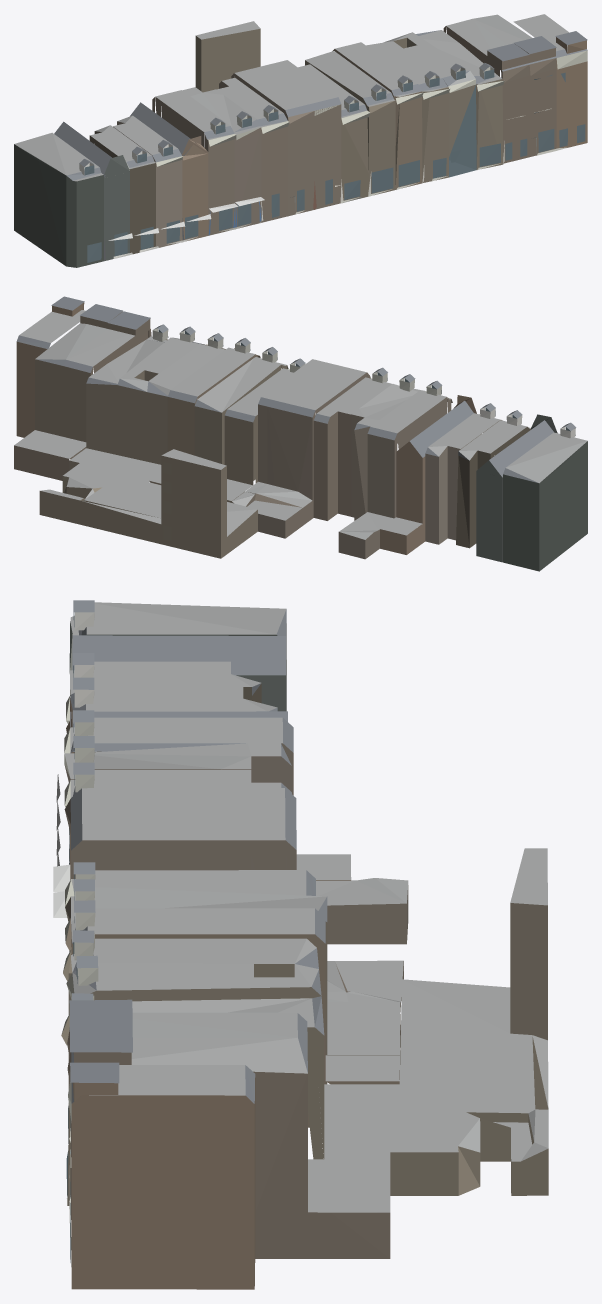
The model's file is chunk-face-kinker-206-242.lod2.glb.
3 renders of one model, top to bottom at view 1: azimuth 30°, elevation 25°; view 2: azimuth 150°, elevation 25°; view 3: azimuth 270°, elevation 25°, orthographic. The views are drawn at different scales.
Visible parts, largest first — view 1: lod2; view 2: lod2; view 3: lod2.
Part boxes in pixels (bbox=[...]): lod2: bbox=[14, 14, 587, 267]; lod2: bbox=[14, 296, 587, 571]; lod2: bbox=[53, 600, 548, 1289].
Size of the model in its own units: 79.81 by 16.22 by 32.91.
